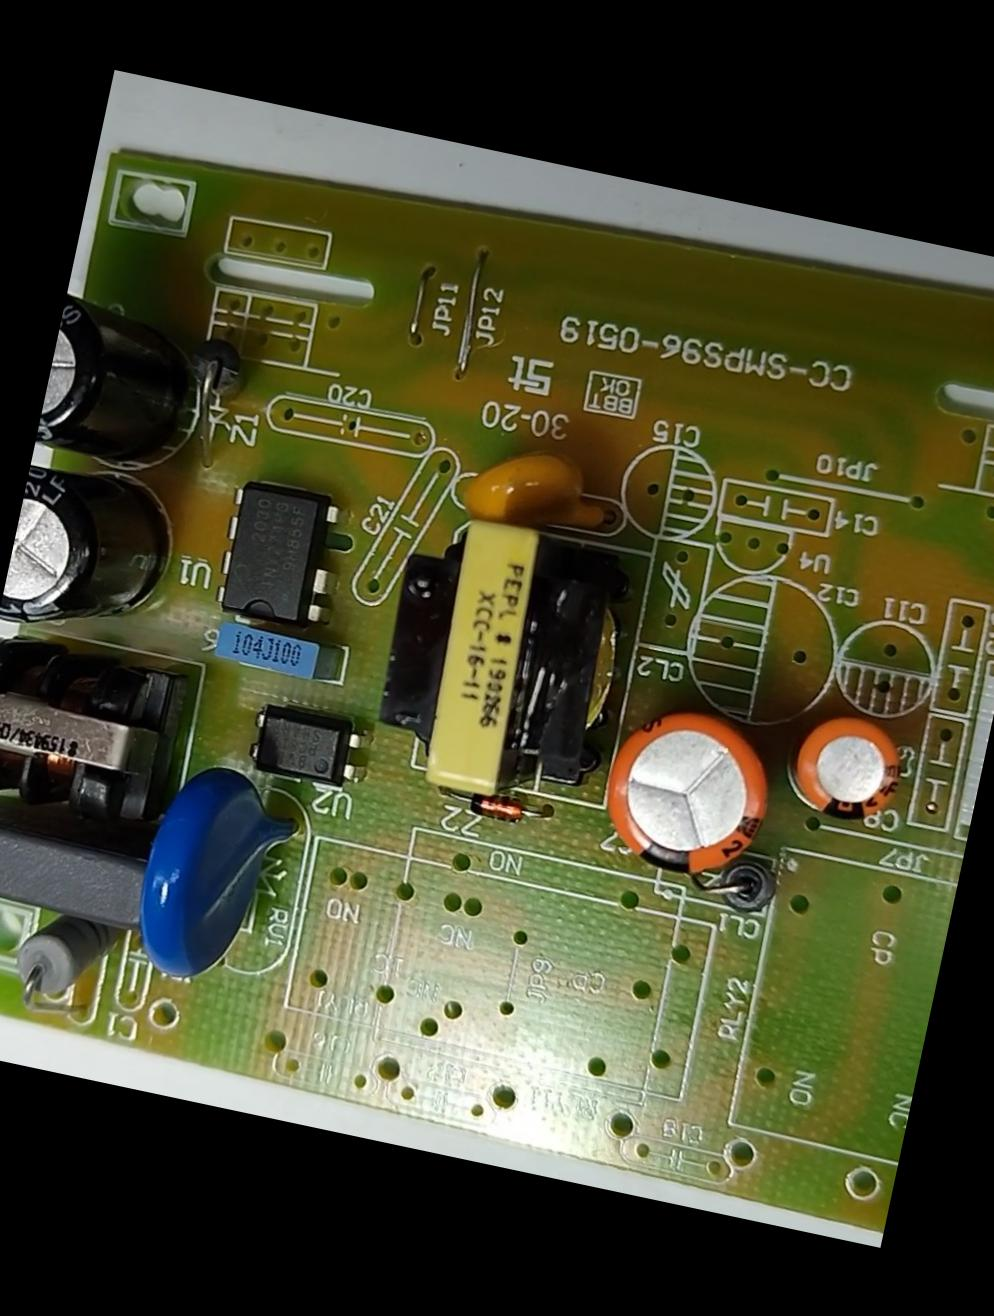Cap1: (587, 692, 788, 888)
Cap2: (781, 701, 912, 832)
Cap3: (0, 454, 188, 657)
Cap4: (32, 285, 218, 485)
MOSFET: (205, 474, 344, 636)
Mov: (120, 751, 310, 997)
Resistor: (6, 909, 117, 1010)
Transformer: (365, 505, 652, 811), (0, 626, 189, 843)
